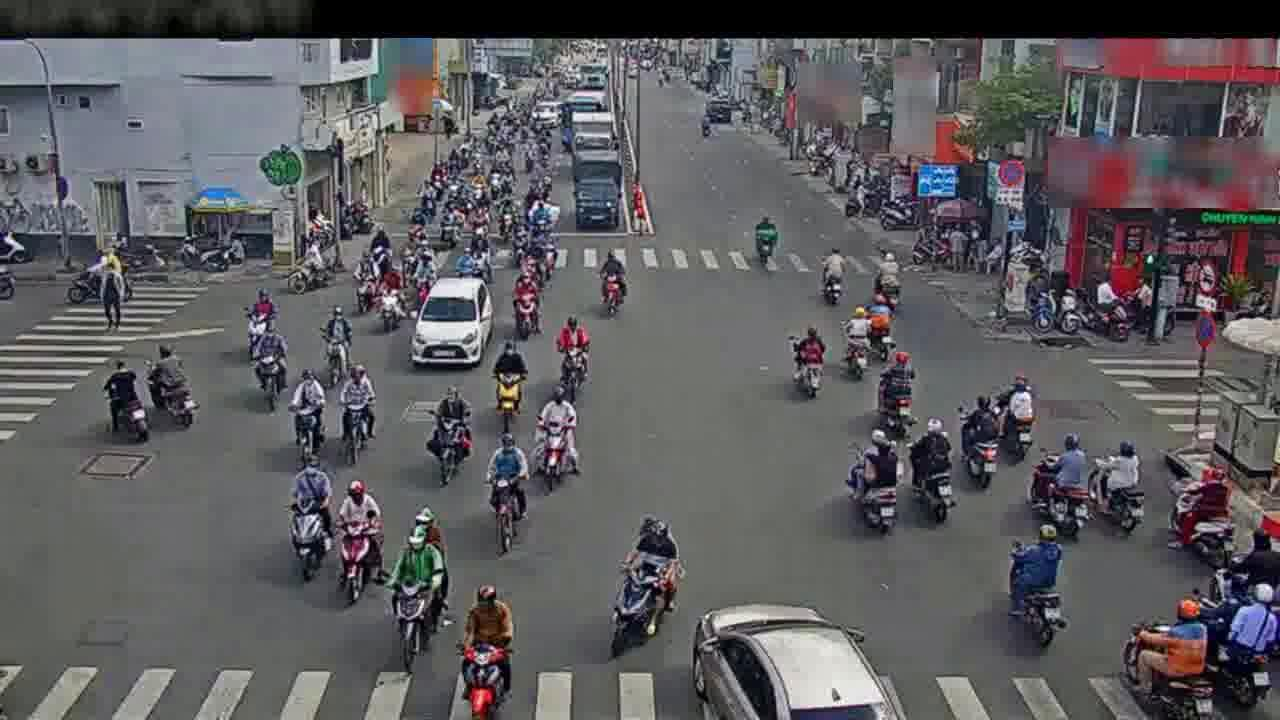8: (571, 159, 626, 230)
container: (704, 599, 886, 712), (417, 273, 491, 373)
motorbike: (1114, 586, 1232, 707), (610, 513, 680, 657), (387, 523, 445, 664), (456, 579, 516, 711), (1004, 520, 1062, 649), (334, 478, 389, 608), (843, 427, 905, 540), (285, 460, 337, 589), (1170, 463, 1237, 563), (1037, 429, 1091, 539), (1218, 583, 1268, 700), (1097, 432, 1147, 538), (911, 417, 955, 530), (485, 432, 525, 553), (1216, 521, 1271, 608), (989, 370, 1041, 461), (430, 382, 472, 487), (535, 388, 575, 497), (961, 391, 1001, 496), (337, 361, 375, 466), (103, 359, 147, 447), (149, 343, 193, 430), (876, 348, 914, 443), (290, 363, 324, 467), (251, 316, 283, 413), (61, 253, 128, 298), (292, 230, 336, 296), (856, 297, 894, 370), (790, 322, 823, 405), (492, 348, 522, 439), (558, 310, 587, 401), (838, 309, 872, 385), (321, 302, 351, 387), (375, 267, 408, 338), (245, 281, 279, 348), (816, 247, 847, 317), (351, 250, 381, 321), (868, 251, 900, 317), (512, 268, 540, 343), (599, 249, 627, 321), (750, 212, 778, 275), (534, 219, 557, 288), (412, 251, 438, 303), (454, 249, 472, 276)
